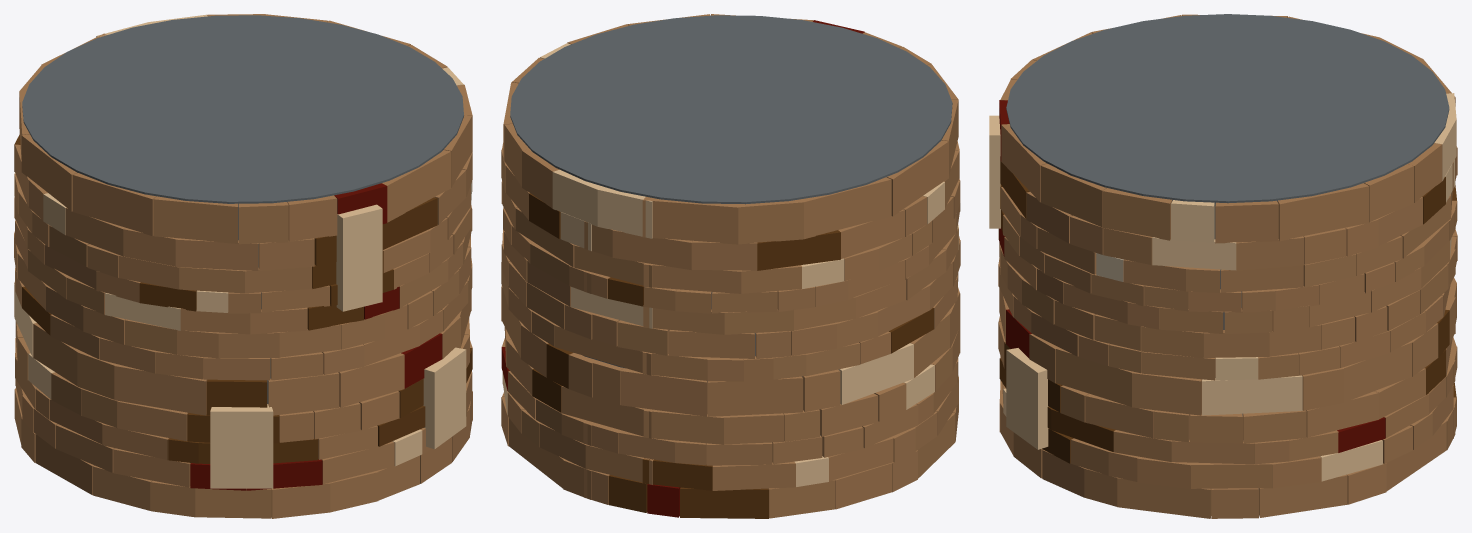
File: tower-sections-decimate.glb
3 renders of one model, left to right at view 1: azimuth 30°, elevation 25°; view 2: azimuth 150°, elevation 25°; view 3: azimuth 270°, elevation 25°, orthographic.
Visible parts, largest first — view 1: main-wall.086, Cylinder, left-slit-frame, upper-slit-frame, right-slit-frame; view 2: main-wall.086, Cylinder; view 3: main-wall.086, Cylinder, right-slit-frame, upper-slit-frame.
Boxes of the visible parts, left/top/right/bottom form: main-wall.086: left=14, top=14, right=472, bottom=518; Cylinder: left=22, top=15, right=463, bottom=403; left-slit-frame: left=210, top=404, right=273, bottom=488; upper-slit-frame: left=336, top=204, right=382, bottom=311; right-slit-frame: left=423, top=347, right=466, bottom=449; main-wall.086: left=501, top=14, right=960, bottom=518; Cylinder: left=510, top=15, right=952, bottom=435; main-wall.086: left=998, top=14, right=1457, bottom=518; Cylinder: left=1006, top=14, right=1449, bottom=488; right-slit-frame: left=1006, top=348, right=1048, bottom=449; upper-slit-frame: left=989, top=115, right=1000, bottom=228.
Bounding box in the file's own units: 2.9 × 2.19 × 2.96.
